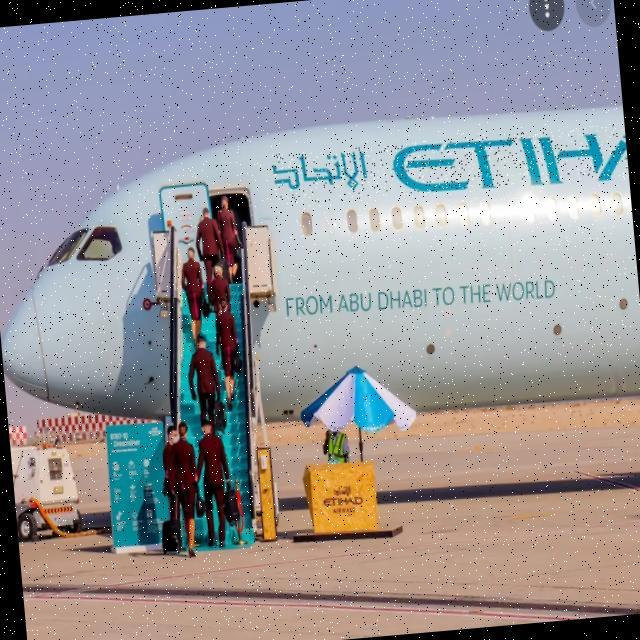Etihad Airways: (271, 123, 628, 206), (322, 483, 363, 514)
